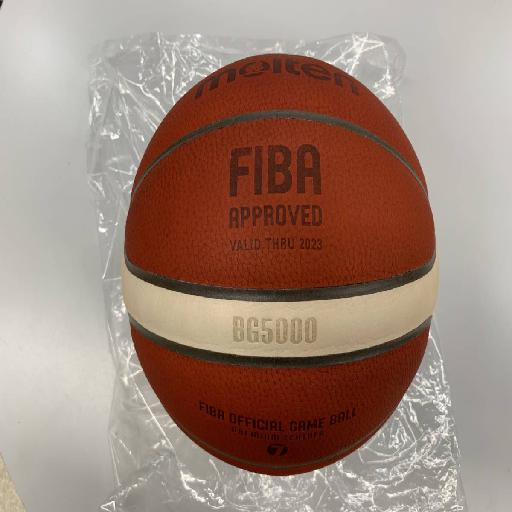ball: (127, 55, 435, 476)
